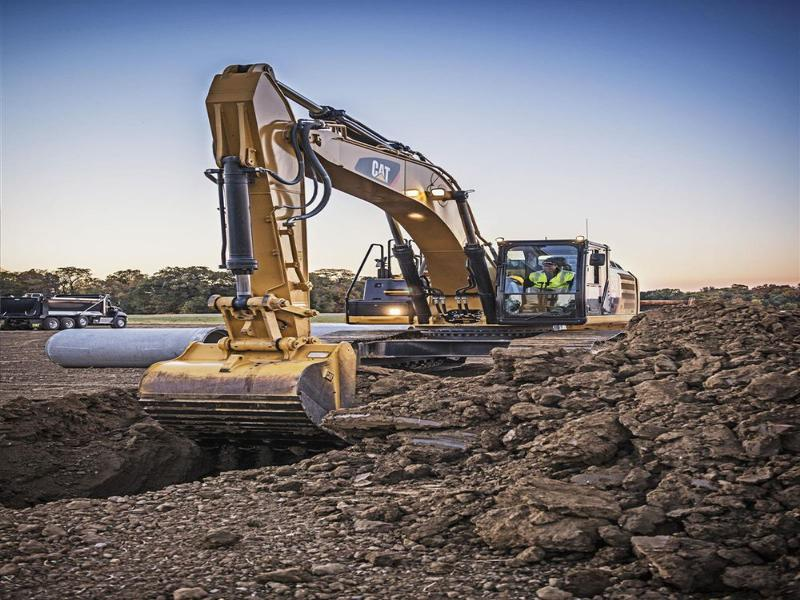shovel: (136, 52, 644, 445)
